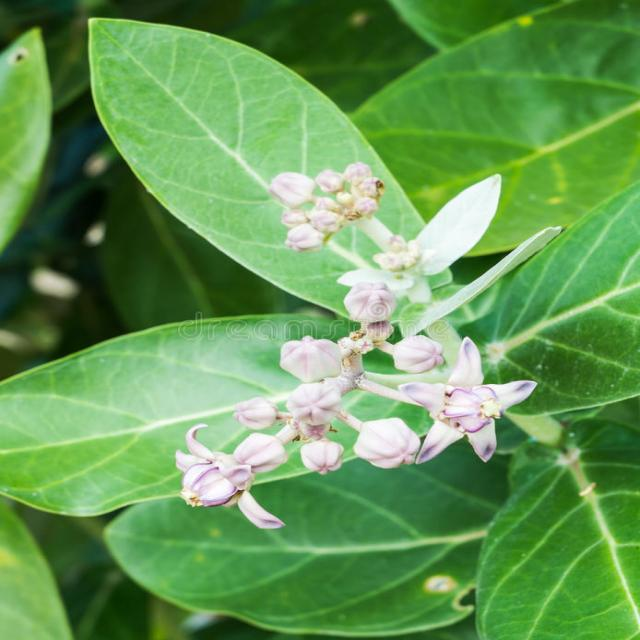Poisonous-Calatropis: (2, 312, 640, 640), (170, 167, 598, 543), (349, 0, 640, 331)
